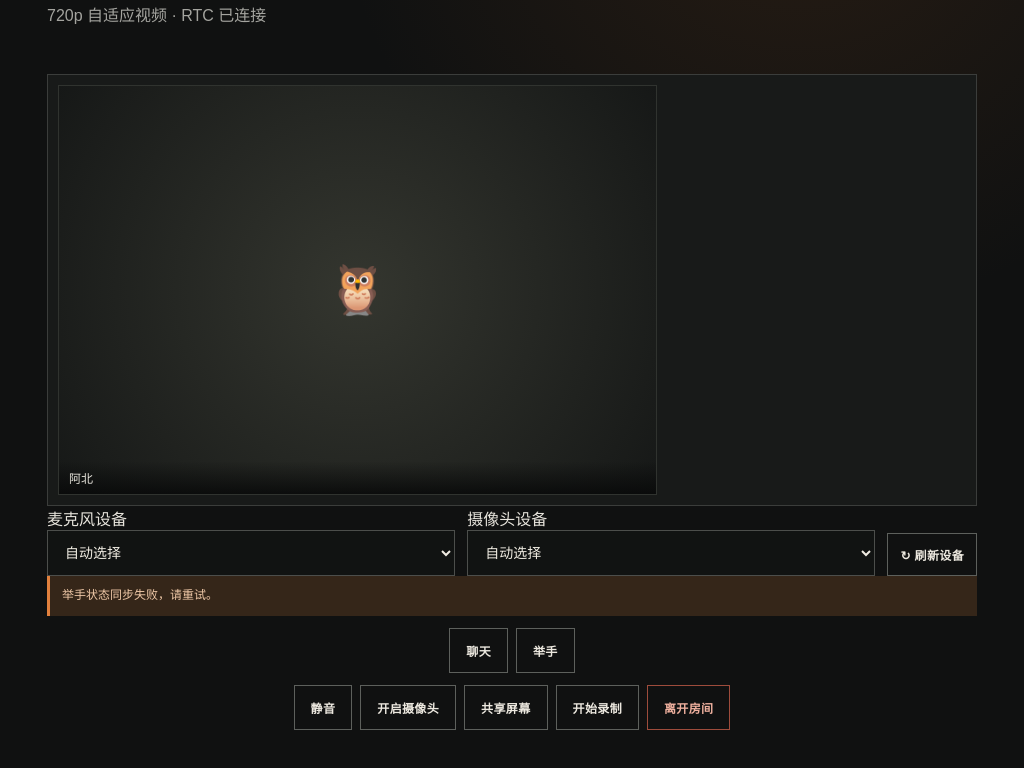
Test: 房间成员模型 › 离开清理失败仍回到大厅
(page scrolled)
Step 1. Click the button "离开房间" → (689, 707), box [647,685,730,730]
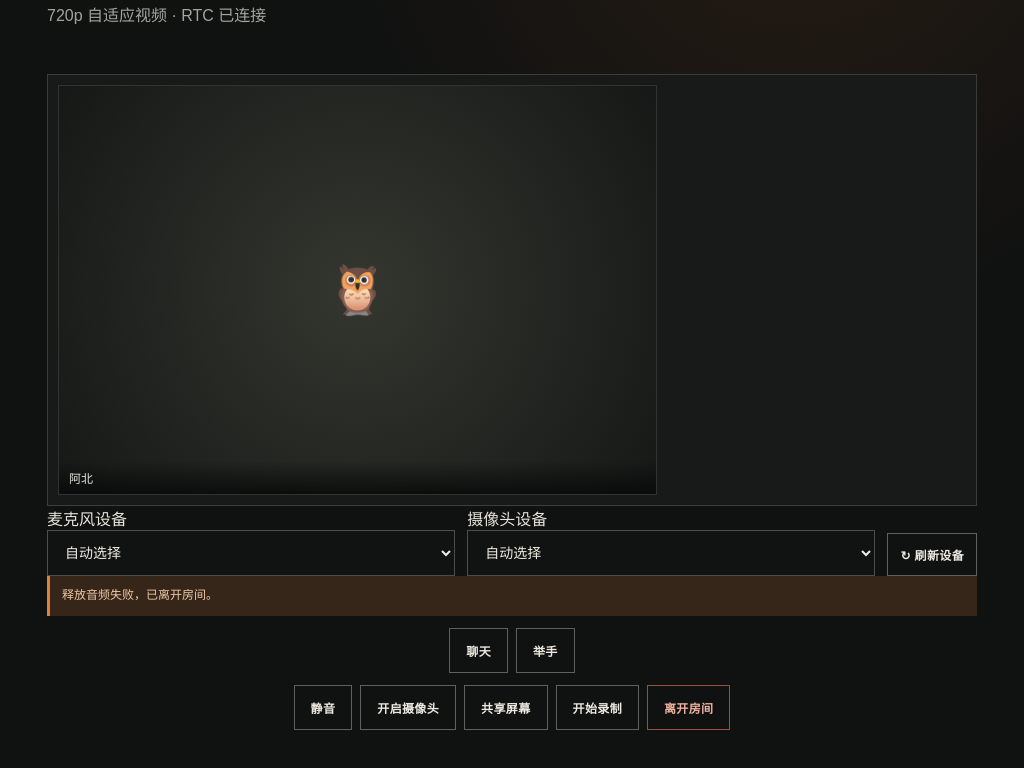
Check: the text "释放音频失败" is shown, box [62,588,218,602]
